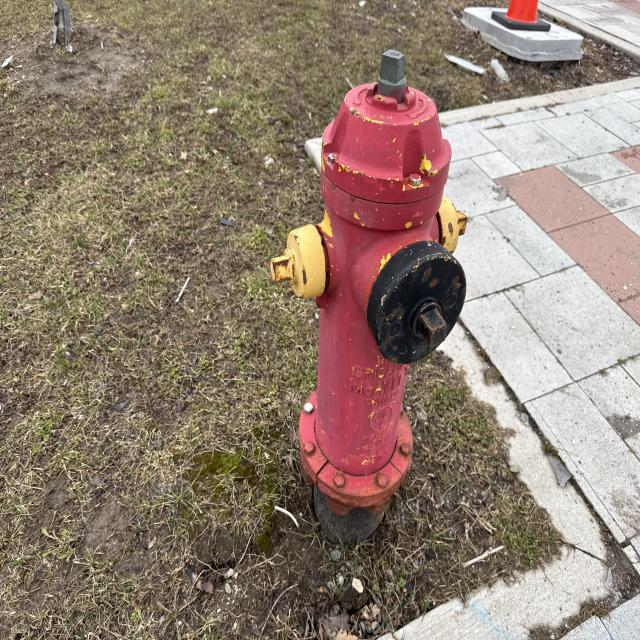Fire hydrant: (270, 49, 468, 518)
